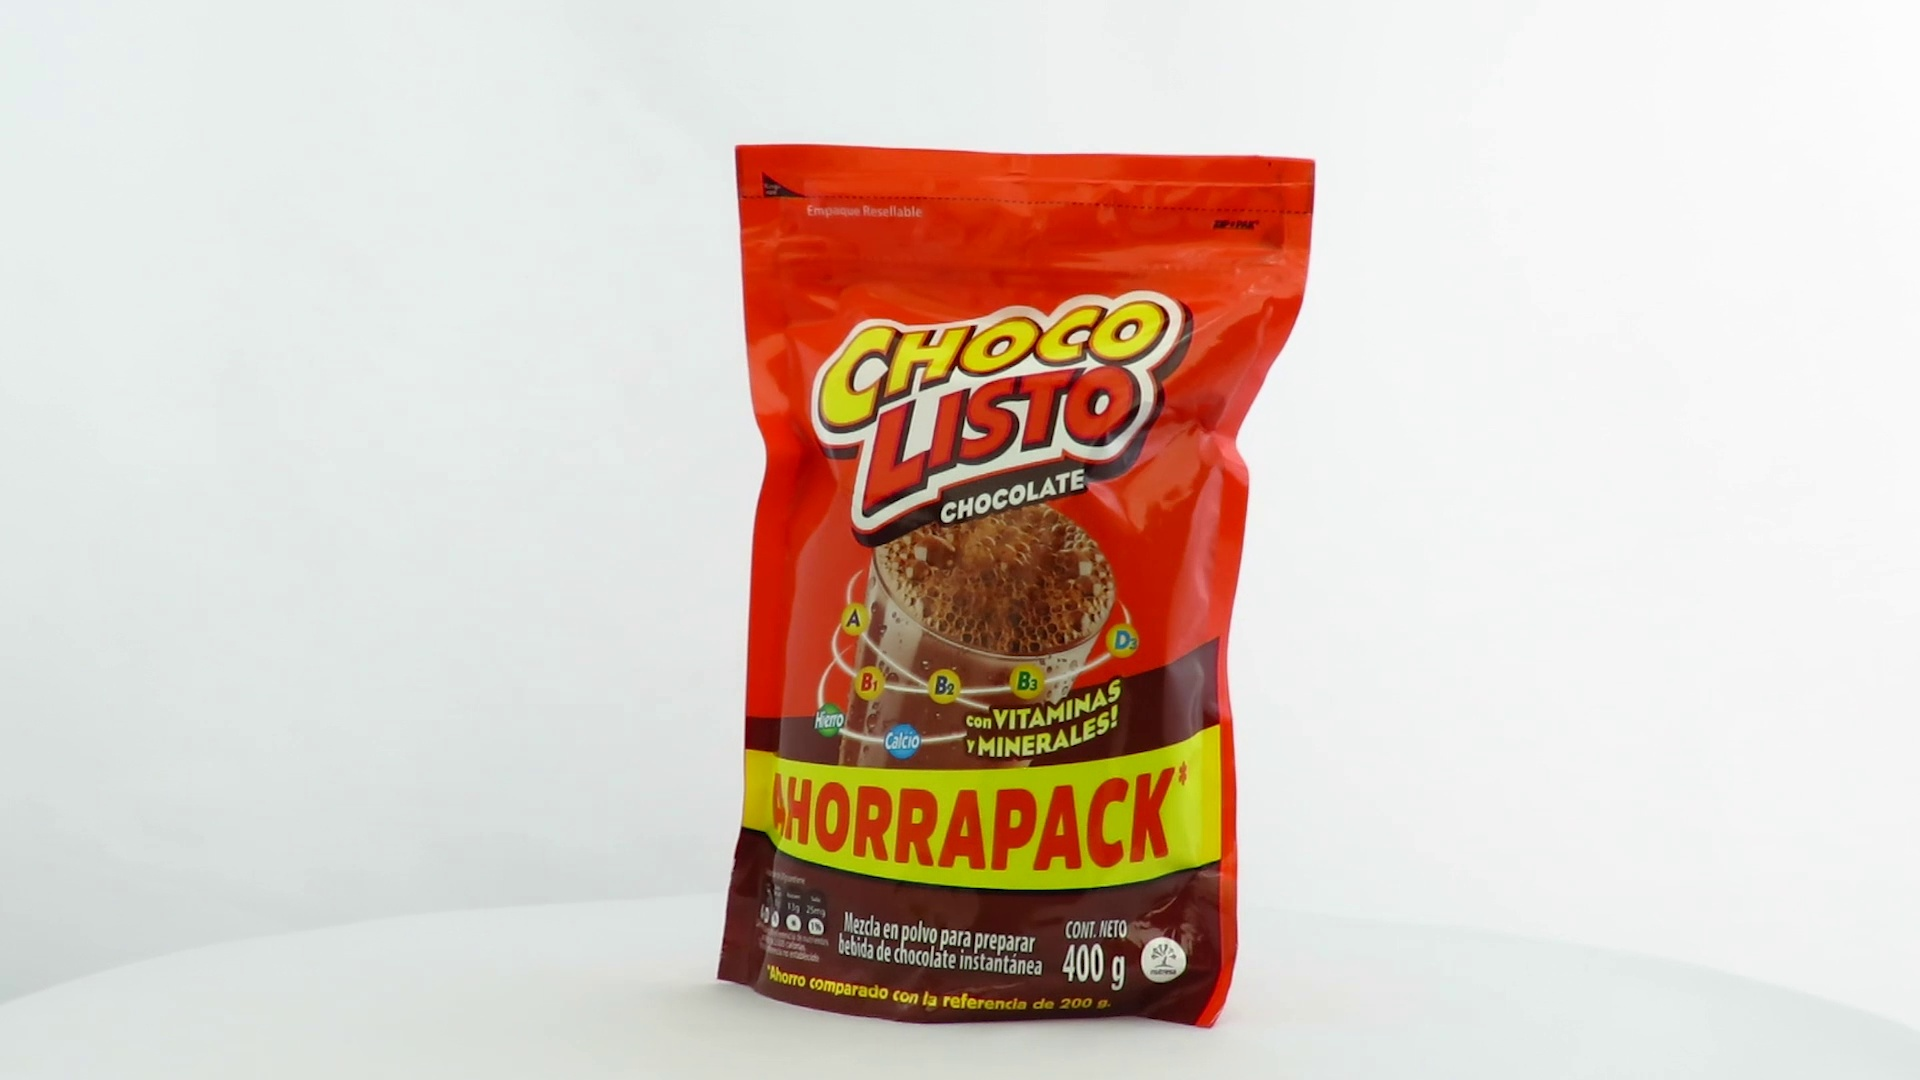COL0170103DYP40000: (712, 138, 1323, 1035)
